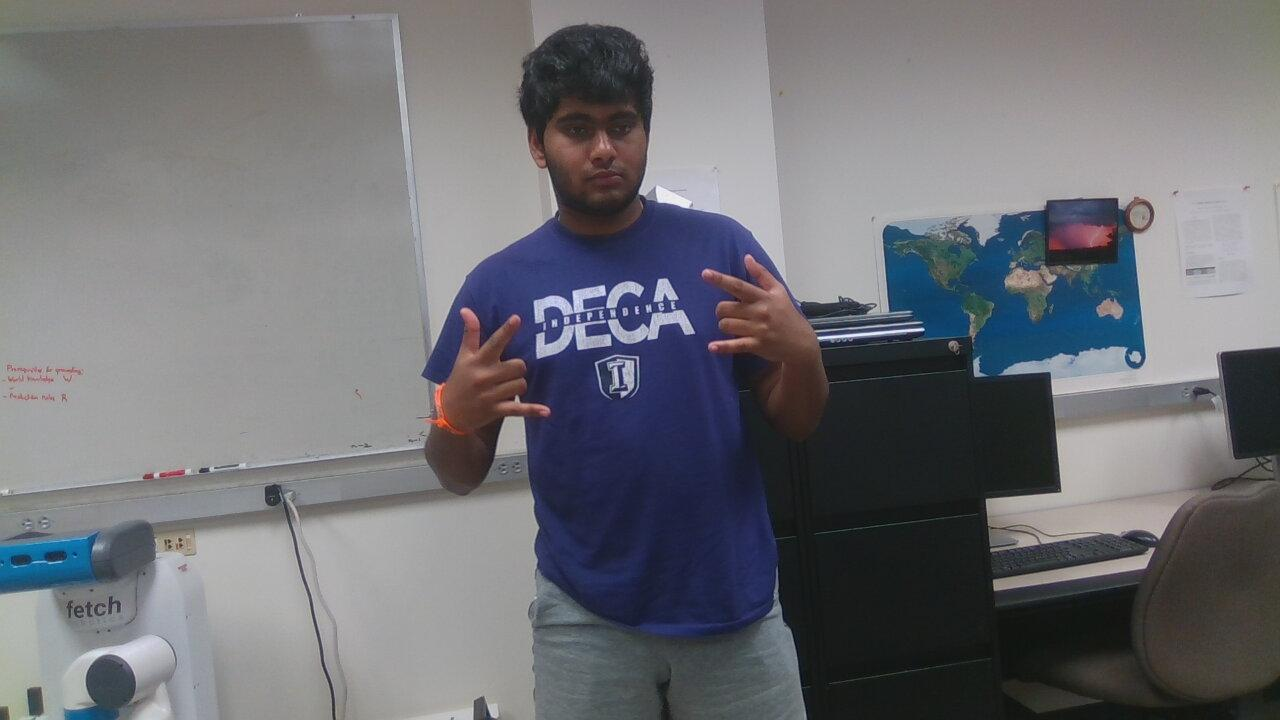hands: (428, 304, 554, 433), (703, 254, 829, 380)
